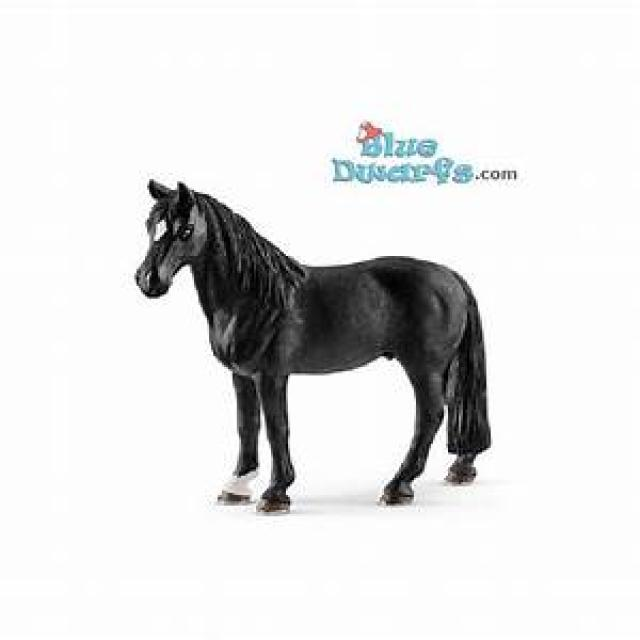horse: (136, 181, 490, 511)
